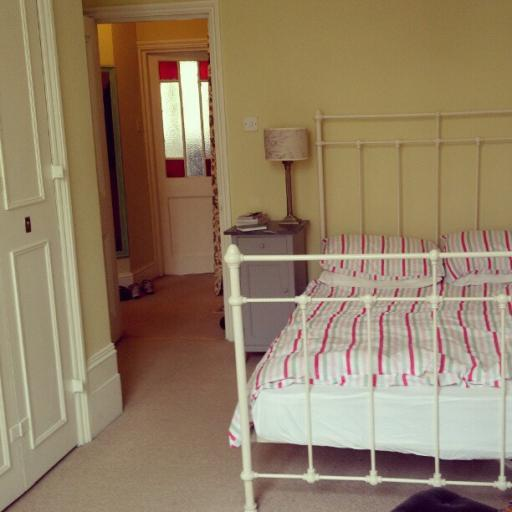bed: (210, 95, 512, 511)
